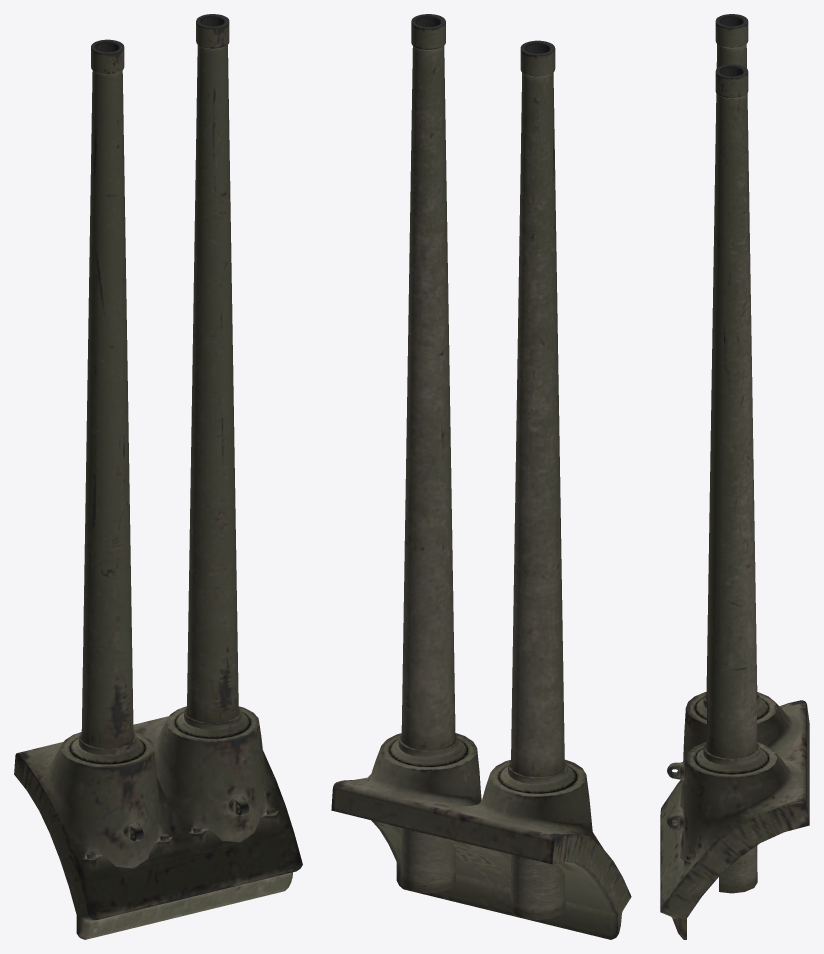
Rendered from Gun_03.glb.
3 renders of one model, left to right at view 1: azimuth 30°, elevation 25°; view 2: azimuth 150°, elevation 25°; view 3: azimuth 270°, elevation 25°, orthographic. The views are drawn at different scales.
Visible parts, largest first — view 1: set_0_group_0; view 2: set_0_group_0; view 3: set_0_group_0.
Part boxes in pixels (box(x1,y1,x2,y2)): set_0_group_0: box(14, 14, 302, 939); set_0_group_0: box(331, 14, 631, 939); set_0_group_0: box(660, 14, 809, 939).
Bounding box in the file's own units: 0.89 × 3.45 × 0.5516.
Materials: 1 (1 with a texture image).
